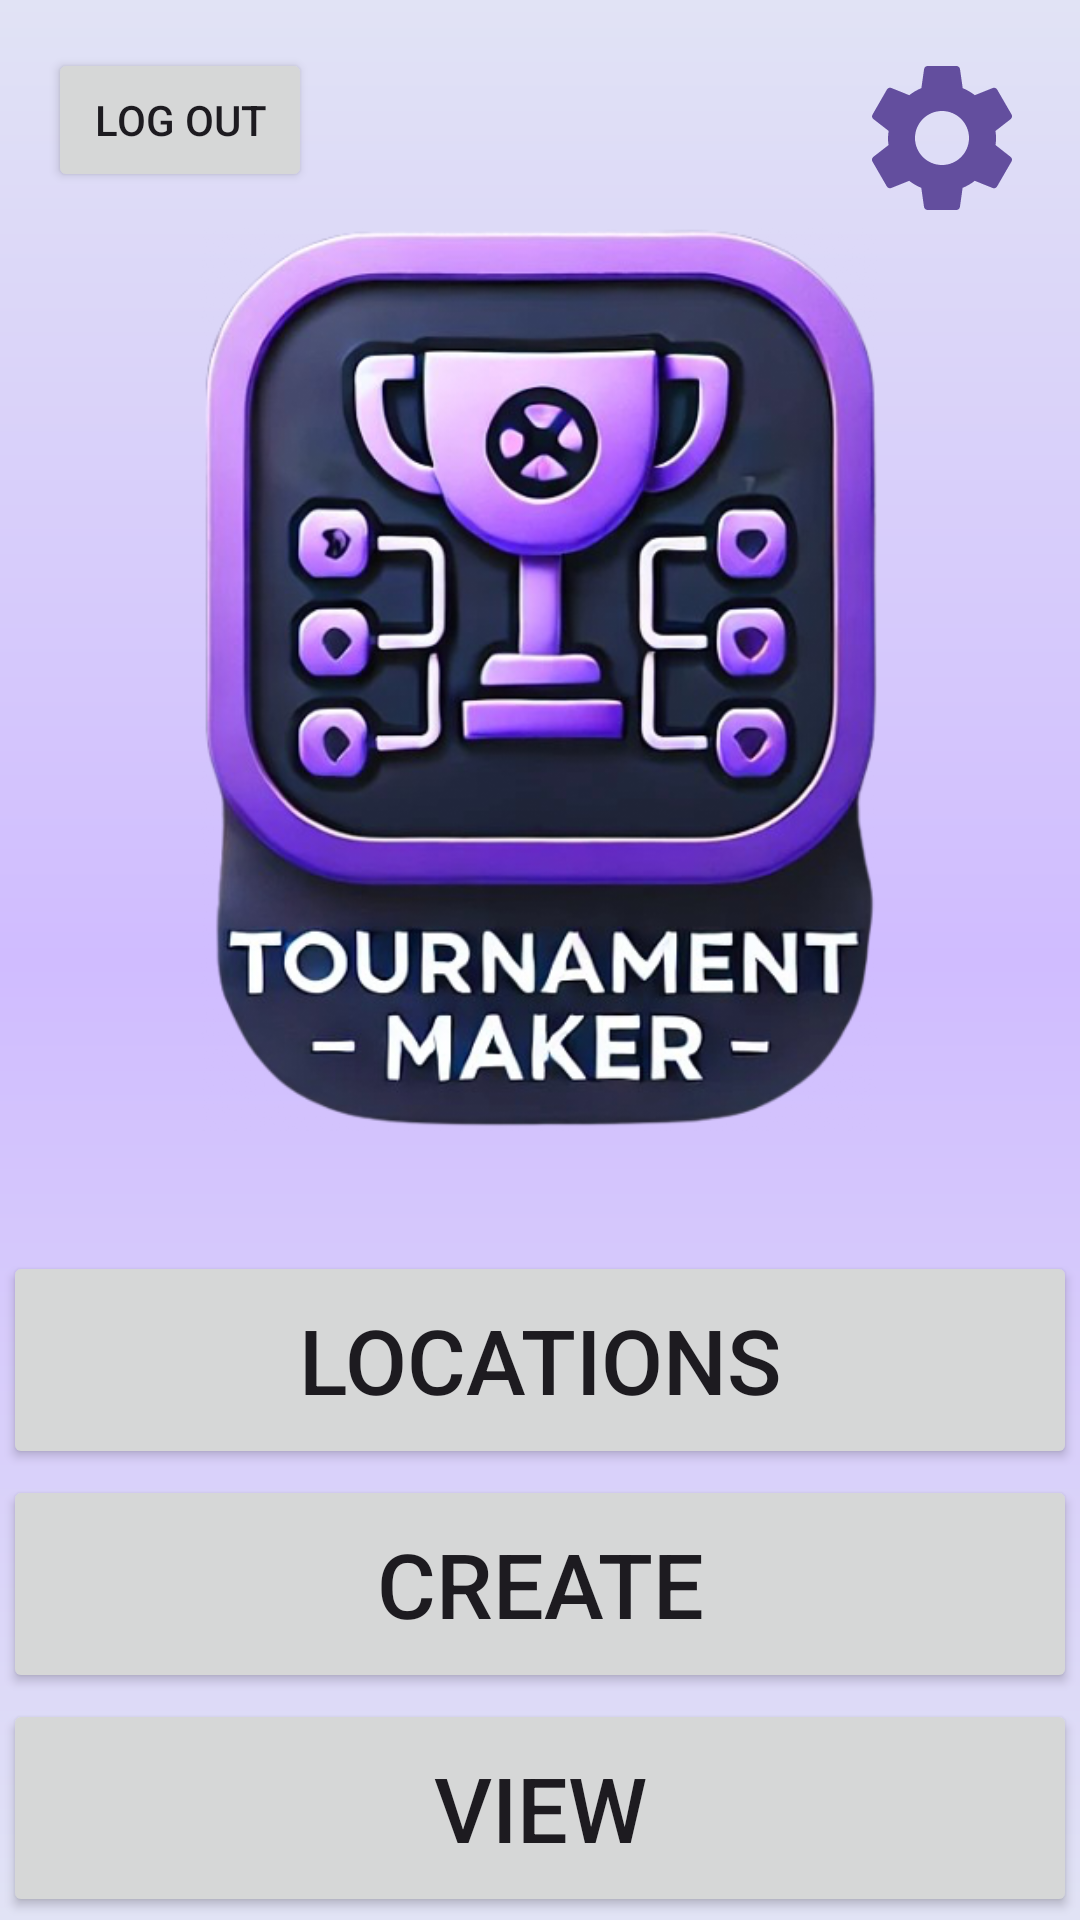

Where icons sit on this 1080 × 1920 app screen, as (x1, y1, x2, y2):
Settings: (872, 66, 1012, 210)
